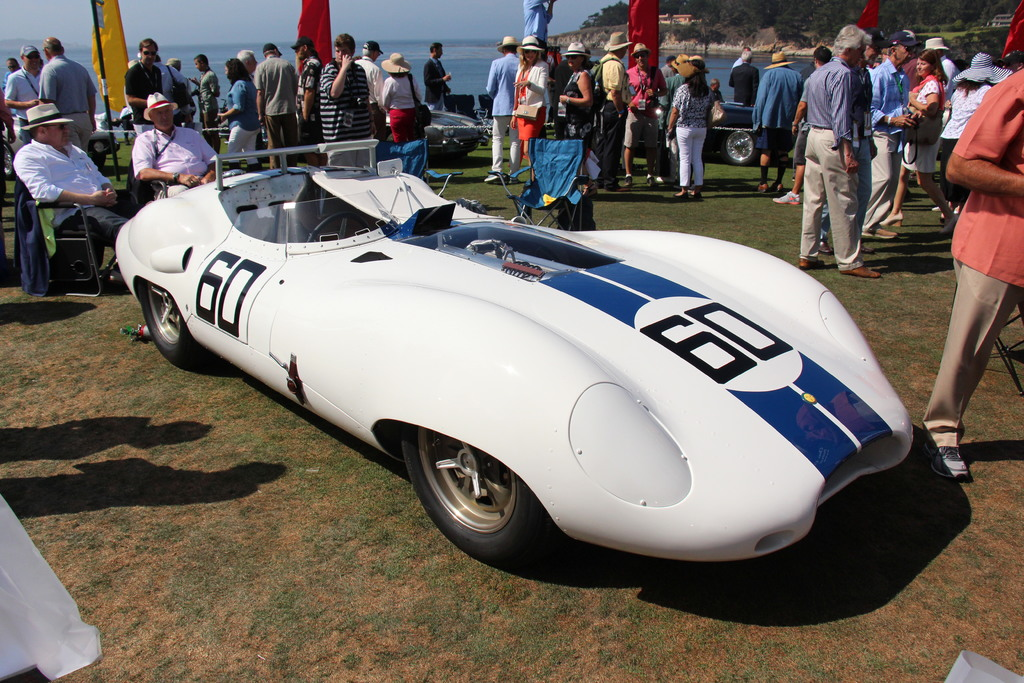Car: (114, 143, 911, 554)
